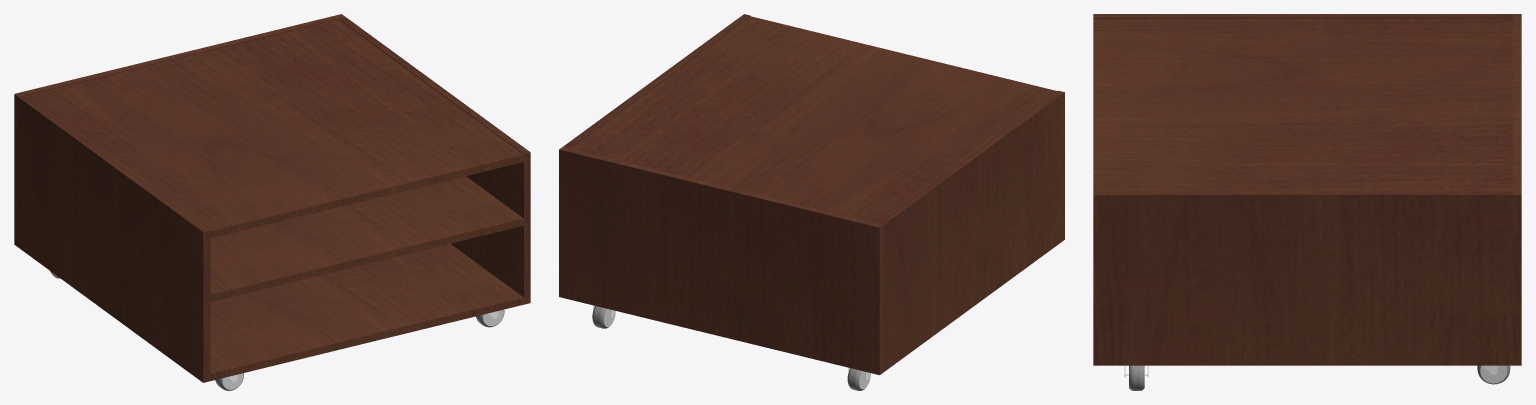
3 renders of one model, left to right at view 1: azimuth 30°, elevation 25°; view 2: azimuth 150°, elevation 25°; view 3: azimuth 270°, elevation 25°, orthographic. The views are drawn at different scales.
Parts seen in each view (by area): view 1: Mesh4 Group4 Model, Mesh2 Group2 Model, Mesh1 Group1 Model, Mesh5 Group5 Model, Mesh3 Group3 Model, Mesh6 Group6 Model; view 2: Mesh4 Group4 Model, Mesh6 Group6 Model, Mesh2 Group2 Model, Mesh1 Group1 Model, Mesh3 Group3 Model; view 3: Mesh4 Group4 Model, Mesh3 Group3 Model, Mesh1 Group1 Model, Mesh6 Group6 Model, Mesh2 Group2 Model, Mesh11 Group12 Wheel2 Model, Mesh7 Group7 Wheel1 Model.
Part boxes in pixels (box(x1,y1,x2,y2)): Mesh4 Group4 Model: box(26, 19, 523, 238); Mesh2 Group2 Model: box(18, 95, 210, 375); Mesh1 Group1 Model: box(14, 237, 530, 382); Mesh5 Group5 Model: box(210, 176, 523, 302); Mesh3 Group3 Model: box(339, 17, 530, 297); Mesh6 Group6 Model: box(14, 14, 345, 239); Mesh4 Group4 Model: box(571, 16, 1056, 222); Mesh6 Group6 Model: box(559, 146, 883, 367); Mesh2 Group2 Model: box(877, 90, 1064, 364); Mesh1 Group1 Model: box(559, 233, 1064, 375); Mesh3 Group3 Model: box(563, 14, 750, 148); Mesh4 Group4 Model: box(1093, 18, 1512, 191); Mesh3 Group3 Model: box(1093, 191, 1512, 357); Mesh1 Group1 Model: box(1093, 357, 1521, 365); Mesh6 Group6 Model: box(1512, 14, 1521, 357); Mesh2 Group2 Model: box(1093, 14, 1512, 18); Mesh11 Group12 Wheel2 Model: box(1477, 365, 1510, 384); Mesh7 Group7 Wheel1 Model: box(1129, 365, 1144, 390).
Size of the model in its own units: 790 by 420 by 790.
4 materials, 1 textured.
